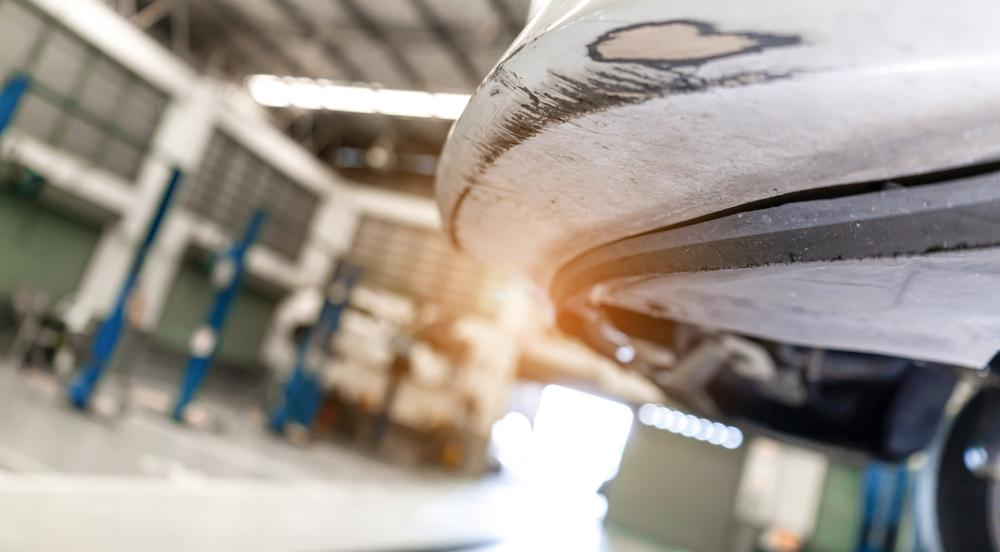scratch: (438, 15, 823, 260)
